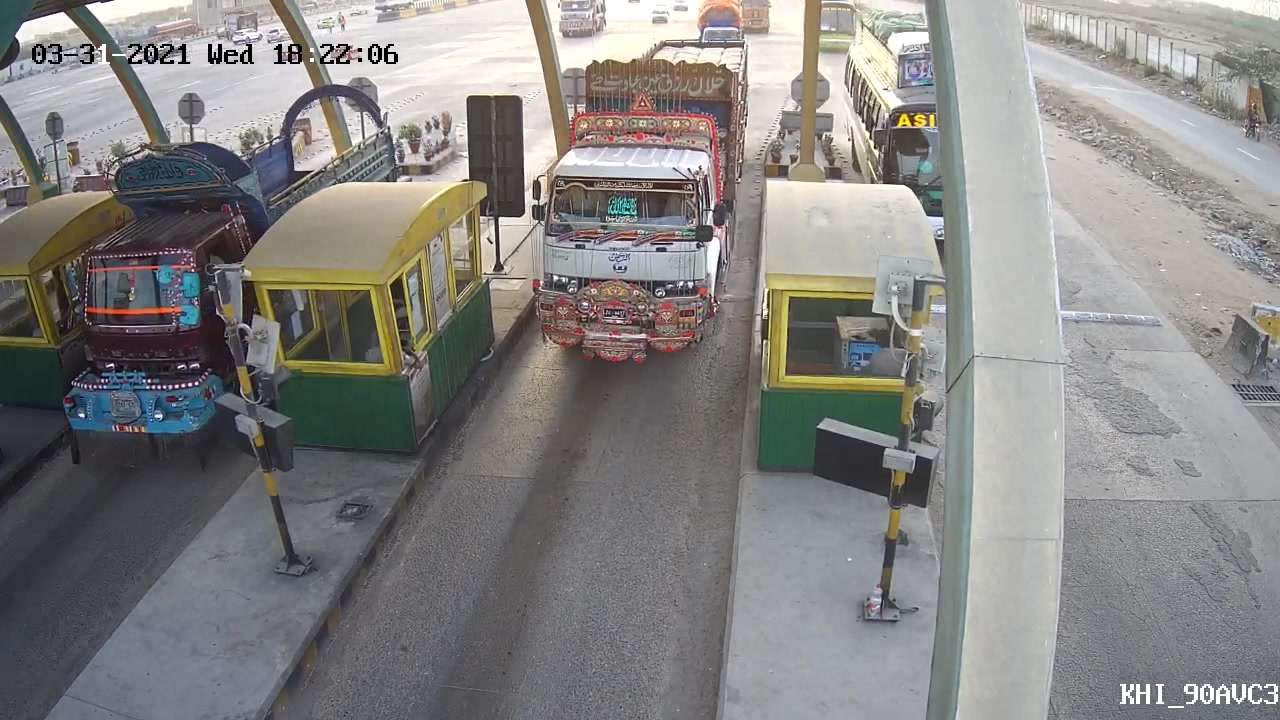F5: (516, 34, 758, 366)
